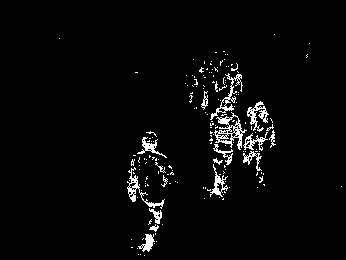person: (129, 127, 175, 255), (207, 98, 244, 208), (245, 96, 278, 187), (223, 60, 245, 116)
